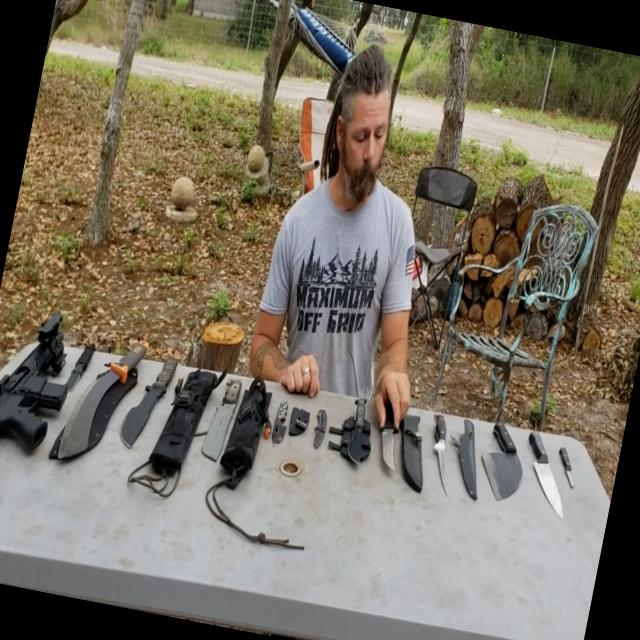knife: (62, 328, 147, 475), (112, 331, 188, 461), (408, 404, 484, 513), (517, 410, 584, 530), (192, 367, 254, 478), (477, 400, 531, 506), (546, 416, 598, 486), (338, 392, 378, 467), (63, 336, 103, 404), (264, 386, 300, 453), (371, 408, 407, 472), (304, 399, 334, 460)
long weapon: (0, 288, 98, 573)
